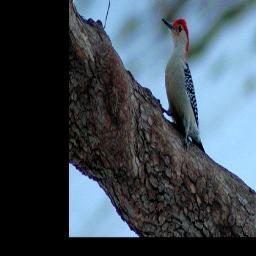Woodpecker: (160, 16, 206, 156)
